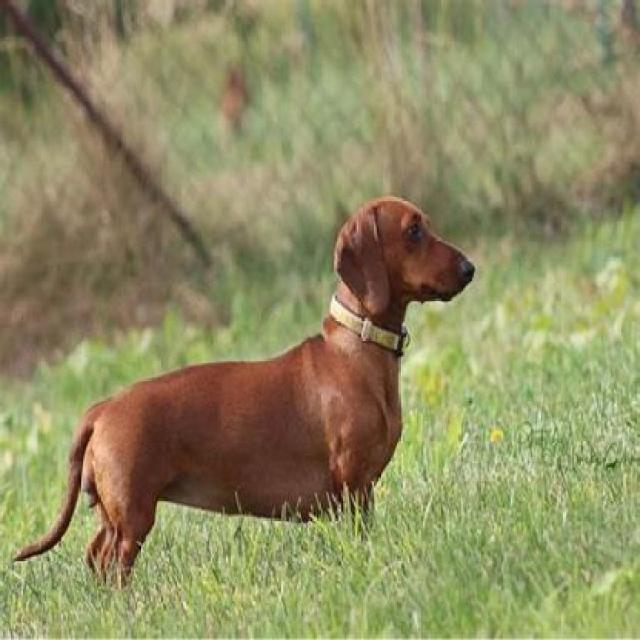Dog: (12, 188, 480, 608)
